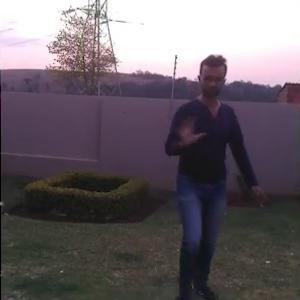follow_hand: (173, 111, 207, 147)
